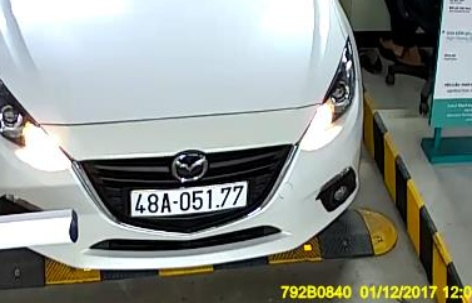plate: (124, 180, 251, 220)
